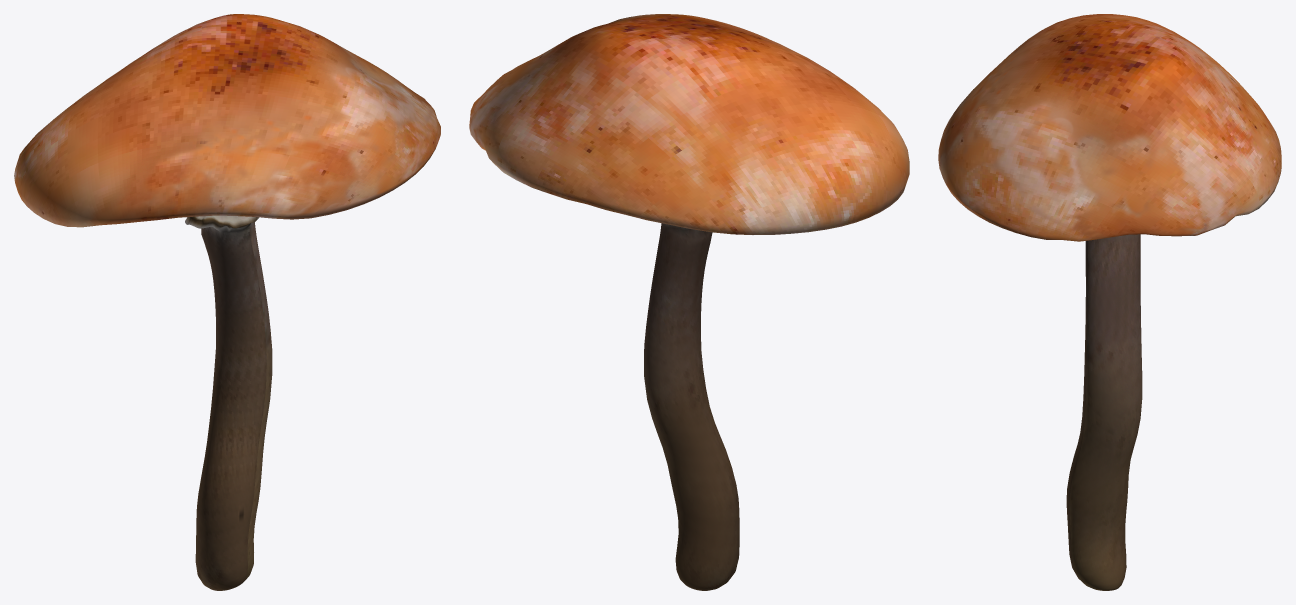
File: SENE_35.fbx
3 views of the same model, side by side, from view 1: azimuth 30°, elevation 25°; view 2: azimuth 150°, elevation 25°; view 3: azimuth 270°, elevation 25° (orthographic). The views are drawn at different scales.
Parts seen in each view (by area): view 1: SENE_35; view 2: SENE_35; view 3: SENE_35.
Boxes of the visible parts, left/top/right/bottom form: SENE_35: left=14, top=14, right=440, bottom=590; SENE_35: left=469, top=14, right=909, bottom=590; SENE_35: left=938, top=14, right=1281, bottom=590.
Bounding box in the file's own units: 36.07 × 48.1 × 27.02.
1 material, 1 textured.
